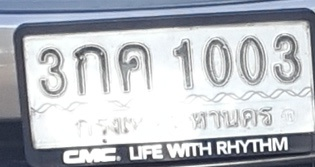num3: (35, 45, 70, 99)
txt01: (70, 42, 112, 98)
txt03: (114, 40, 154, 94)
